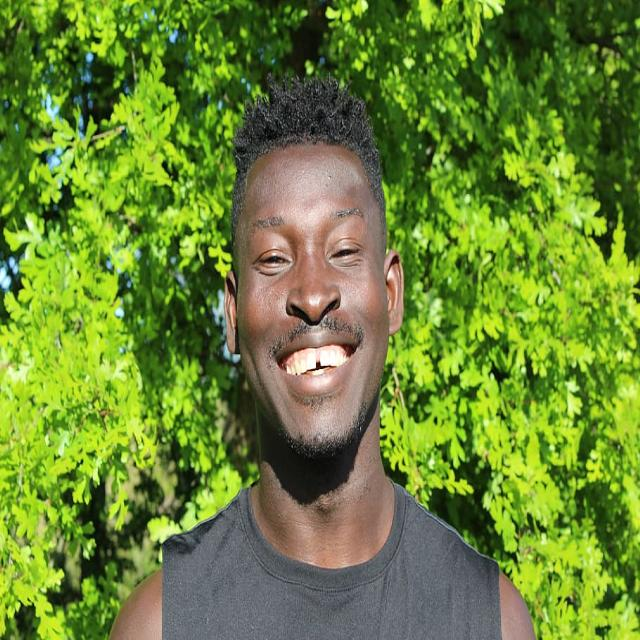sem_oculos: (215, 170, 422, 291)
